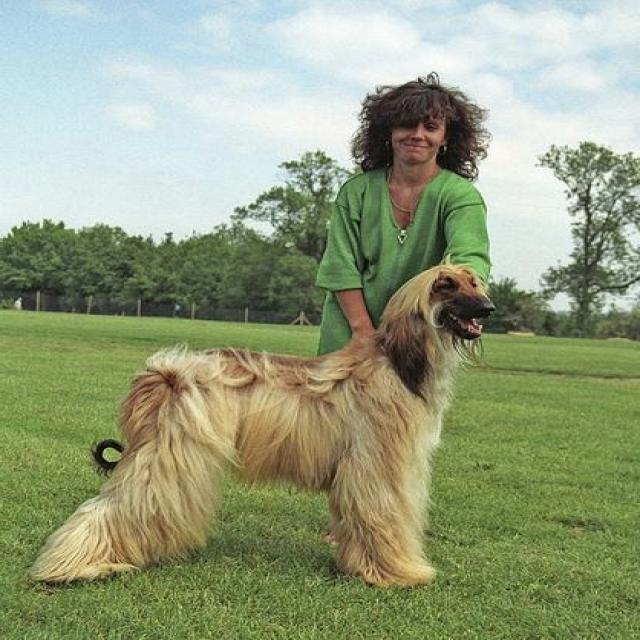afghan_hound: (32, 260, 493, 584)
